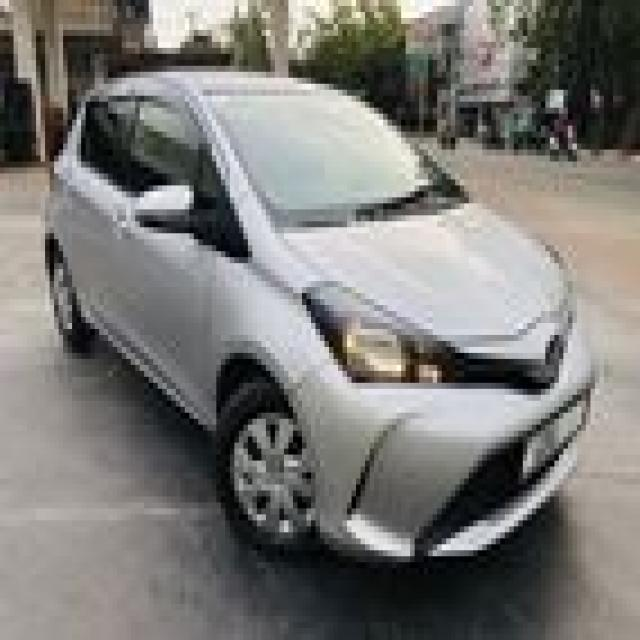car: (31, 62, 600, 560)
